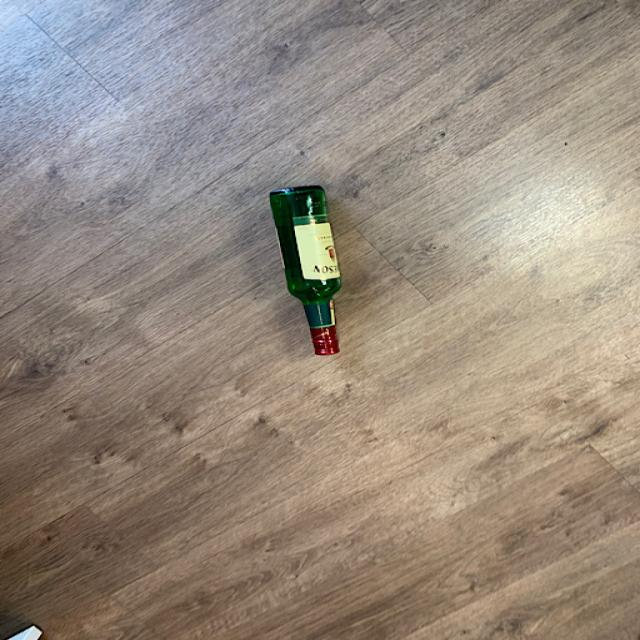litter: (268, 186, 350, 362)
